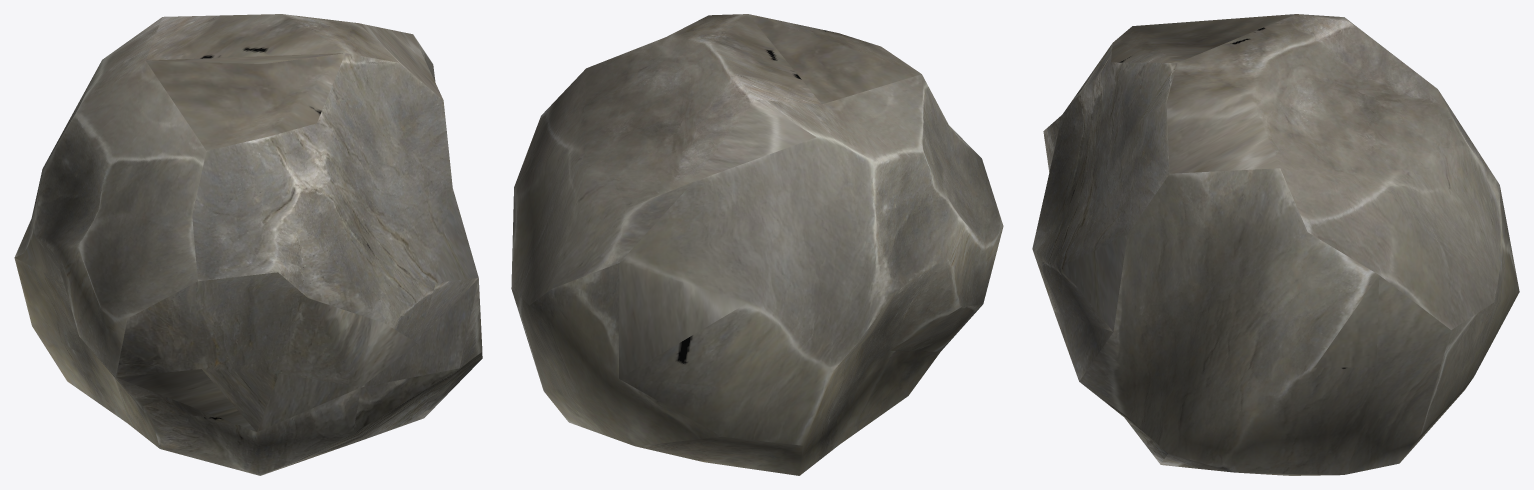
The picture shows the model from 3 angles, left to right: view 1: azimuth 30°, elevation 25°; view 2: azimuth 150°, elevation 25°; view 3: azimuth 270°, elevation 25°; orthographic projection. The views are drawn at different scales.
Parts seen in each view (by area): view 1: Mesh0.001; view 2: Mesh0.001; view 3: Mesh0.001.
Part boxes in pixels (x1,y1,x2,y2): Mesh0.001: (14, 14, 482, 475); Mesh0.001: (511, 14, 1003, 475); Mesh0.001: (1032, 14, 1519, 475).
Bounding box in the file's own units: 0.0992 × 0.0907 × 0.1045.
Materials: 1 (1 with a texture image).
